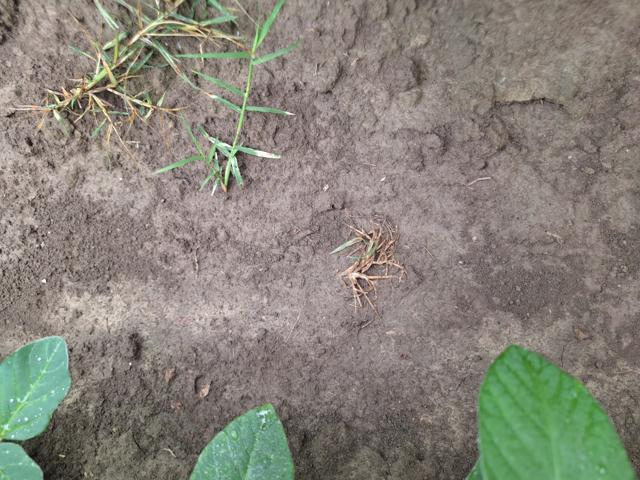bad weed: (1, 3, 302, 203), (328, 210, 412, 321)
